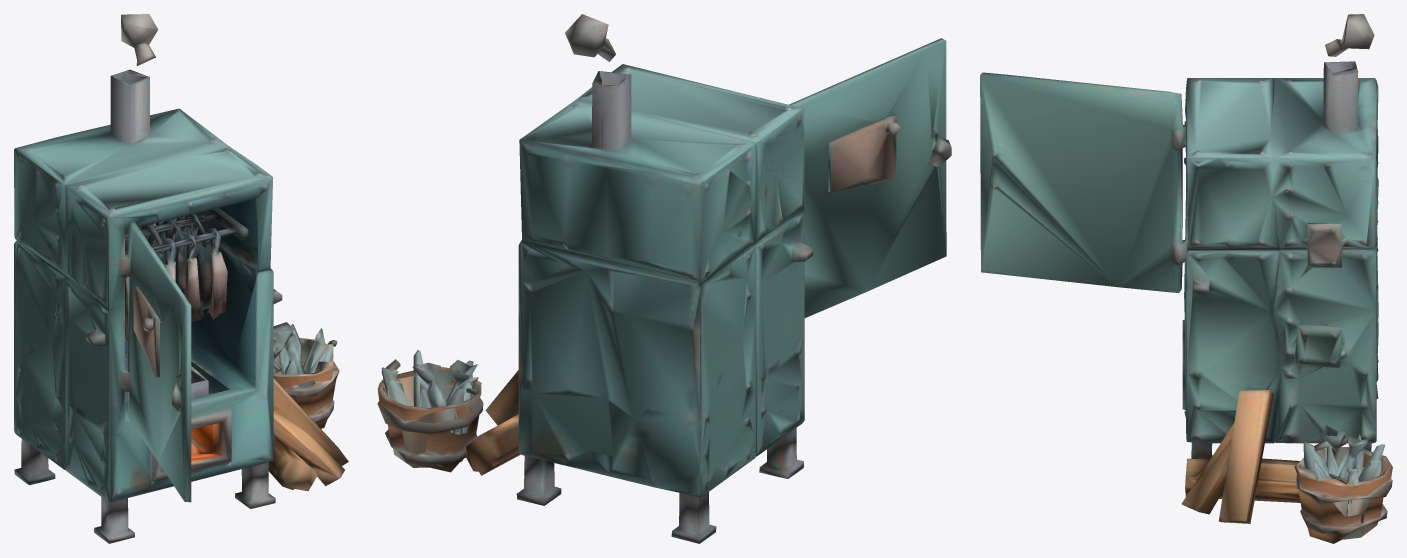
File: xunyu-2.glb
3 renders of one model, left to right at view 1: azimuth 30°, elevation 25°; view 2: azimuth 150°, elevation 25°; view 3: azimuth 270°, elevation 25°, orthographic. The views are drawn at different scales.
Visible parts, largest first — view 1: node_0; view 2: node_0; view 3: node_0.
Boxes of the visible parts, x1,y1,x2,y2 form: node_0: (14,14,348,543); node_0: (377,14,951,543); node_0: (980,14,1392,543).
Size of the model in its own units: 0.6725 by 0.8357 by 0.7085.
Materials: 1 (1 with a texture image).
